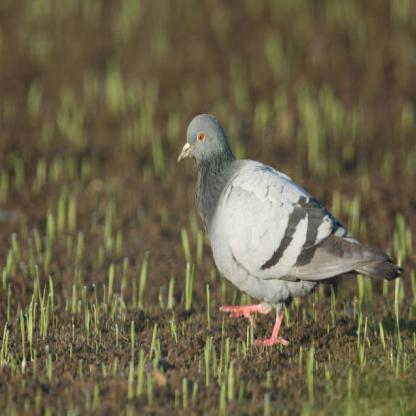Flying Rat: (177, 111, 402, 360)
